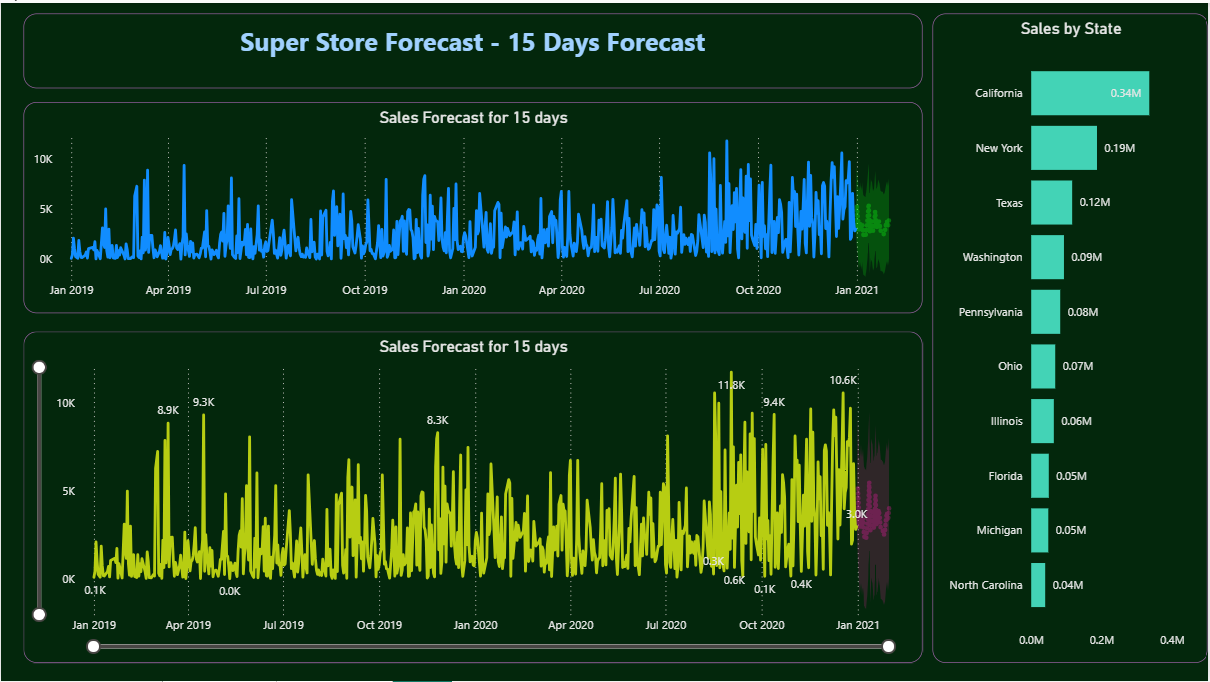

This screenshot's page, from the dashboard's own definition file:
{"tool":"powerbi","page":{"name":"Page 2","canvas":[1280,720],"ordinal":1},"visuals":[{"type":"lineChart","title":"Sales Forecast for 15 days","fields":{"Y":["Sum(SuperStore_Sales_Dataset.Sales)"],"Category":["SuperStore_Sales_Dataset.Order Date"]},"box":[24.2,104.8,953.2,224.2],"z":0},{"type":"lineChart","title":"Sales Forecast for 15 days","fields":{"Y":["Sum(SuperStore_Sales_Dataset.Sales)"],"Category":["SuperStore_Sales_Dataset.Order Date"]},"box":[24.2,348.4,953.2,351.6],"z":1000},{"type":"textbox","box":[24.2,11.3,953.2,79],"z":2000},{"type":"clusteredBarChart","title":"Sales by State","fields":{"Category":["SuperStore_Sales_Dataset.State"],"Y":["Sum(SuperStore_Sales_Dataset.Sales)"]},"box":[987.8,11.1,292.7,688.7],"z":3000}]}

Visuals, with their boxes in screenshot pixels (x1, y1, x2, y2), scaled from the page's 1280x720 canvas onto the 1210x682 screenshot:
"Sales Forecast for 15 days" lineChart: 23:99:924:312
"Sales Forecast for 15 days" lineChart: 23:330:924:663
textbox: 23:11:924:86
"Sales by State" clusteredBarChart: 934:11:1209:663
